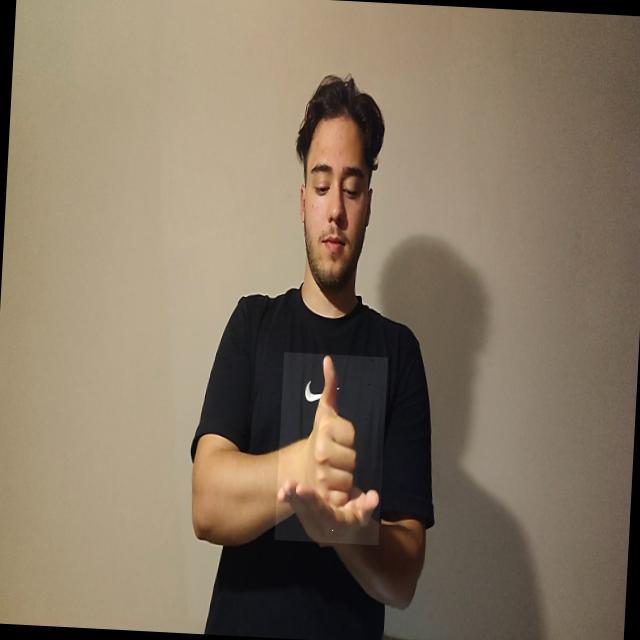help: (274, 353, 388, 546)
